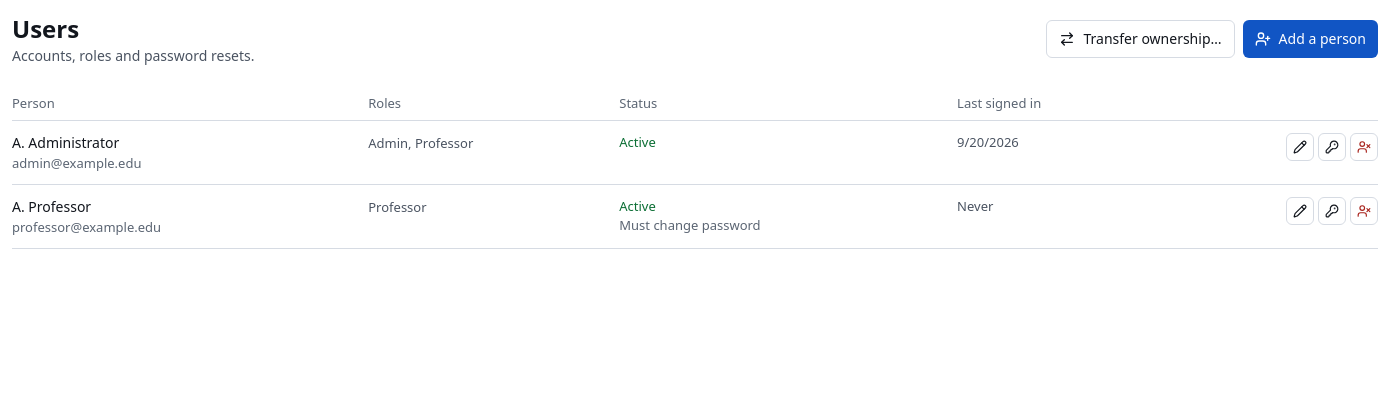
Test: the row actions › resets a password and shows the new one
Expected: the text "A. Professor" is shown, [12,197,91,216]
Click the button named "Reset the password for professor@example.edu": click(1332, 211) [1318,197,1346,225]
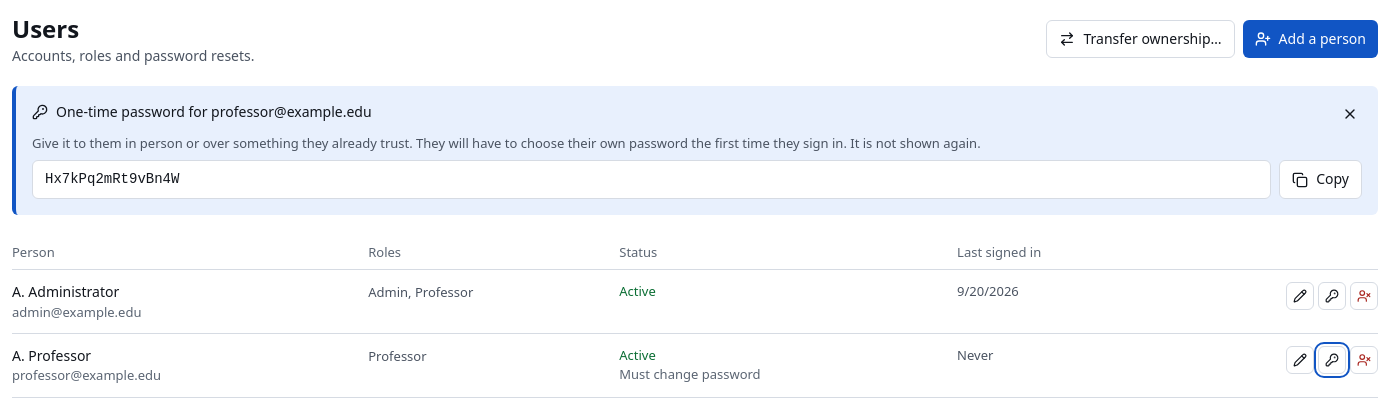
Expected: the text "Hx7kPq2mRt9vBn4W" is shown, [32,160,1271,199]
